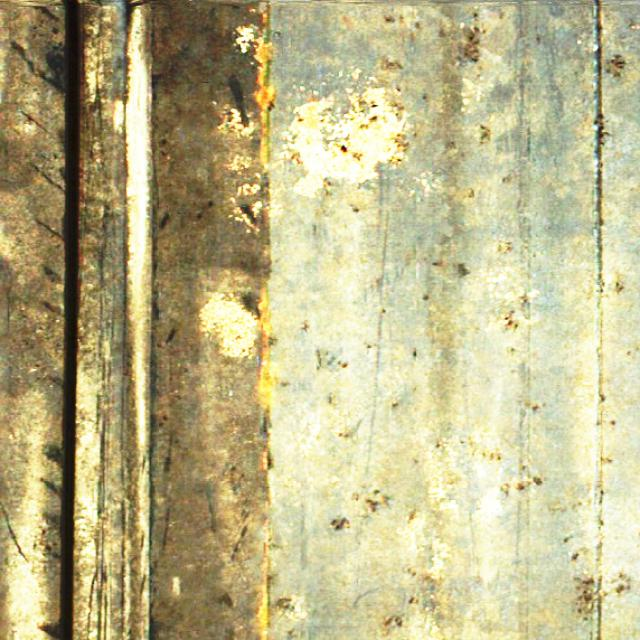Corrosion: (255, 38, 275, 166), (257, 286, 278, 407), (256, 522, 270, 639), (262, 446, 270, 471)
